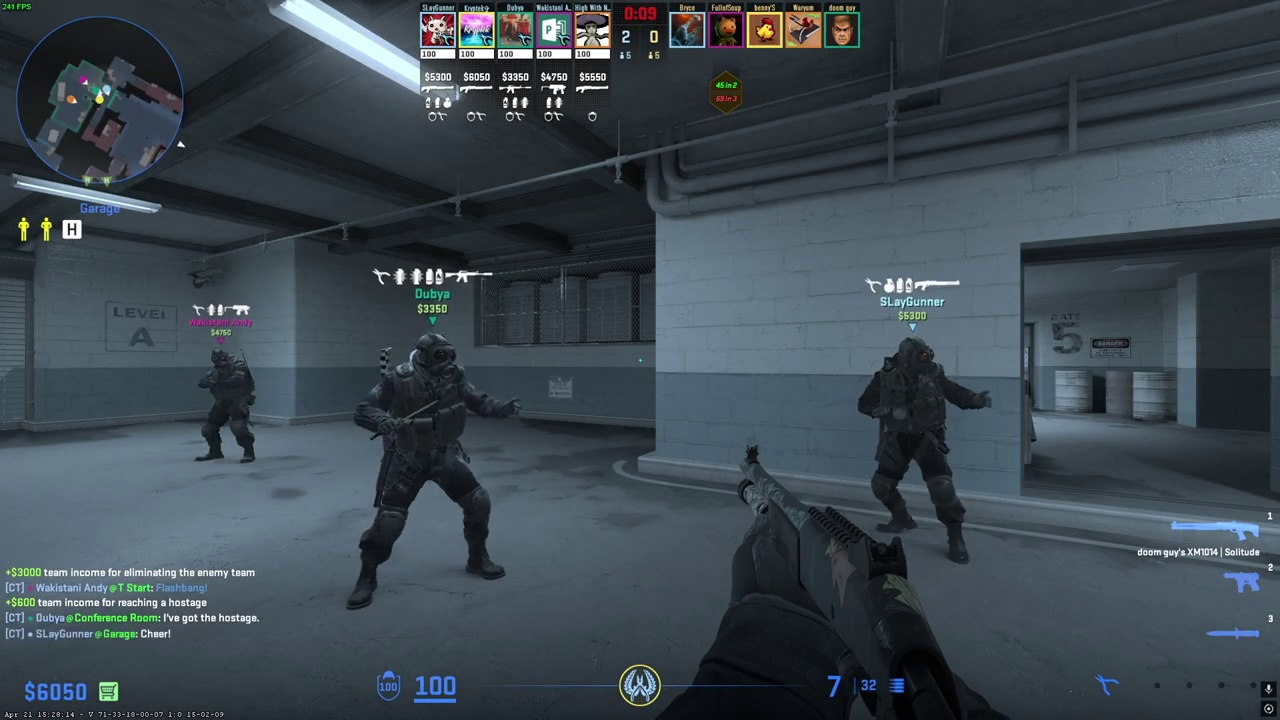CT: (354, 333, 501, 606), (868, 337, 974, 562), (197, 349, 256, 463)
